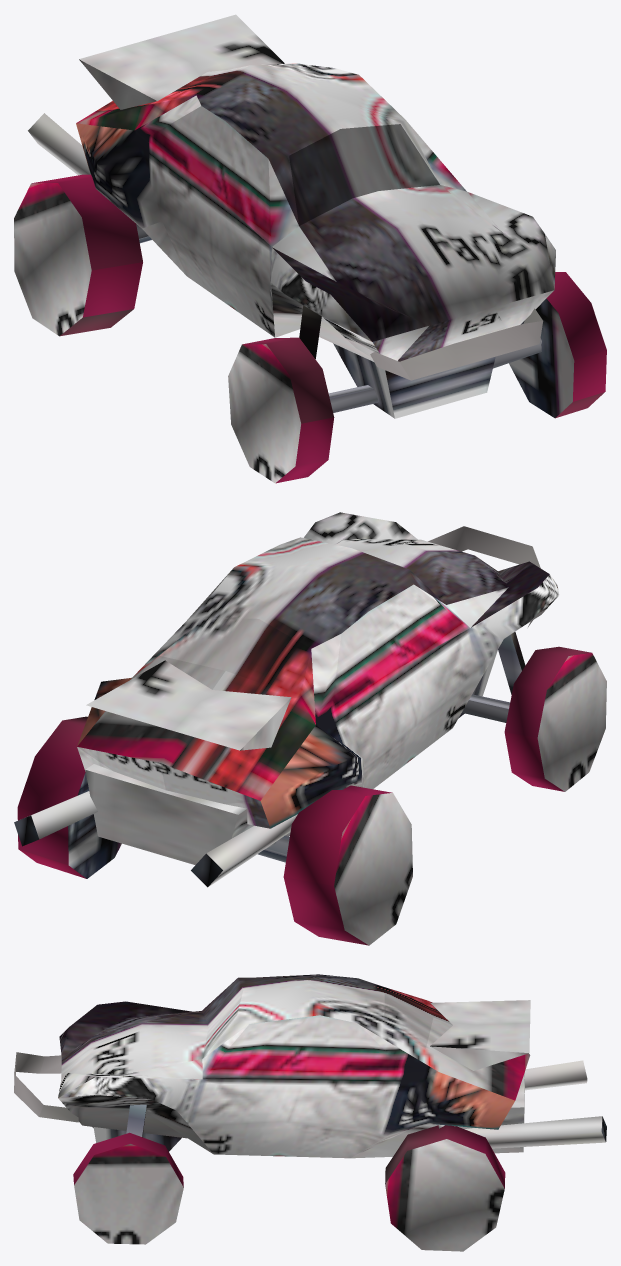
The model's file is iconview.ico.obj.
3 renders of one model, top to bottom at view 1: azimuth 30°, elevation 25°; view 2: azimuth 150°, elevation 25°; view 3: azimuth 270°, elevation 25°, orthographic. The views are drawn at different scales.
Size of the model in its own units: 2.52 by 1.93 by 4.99.
